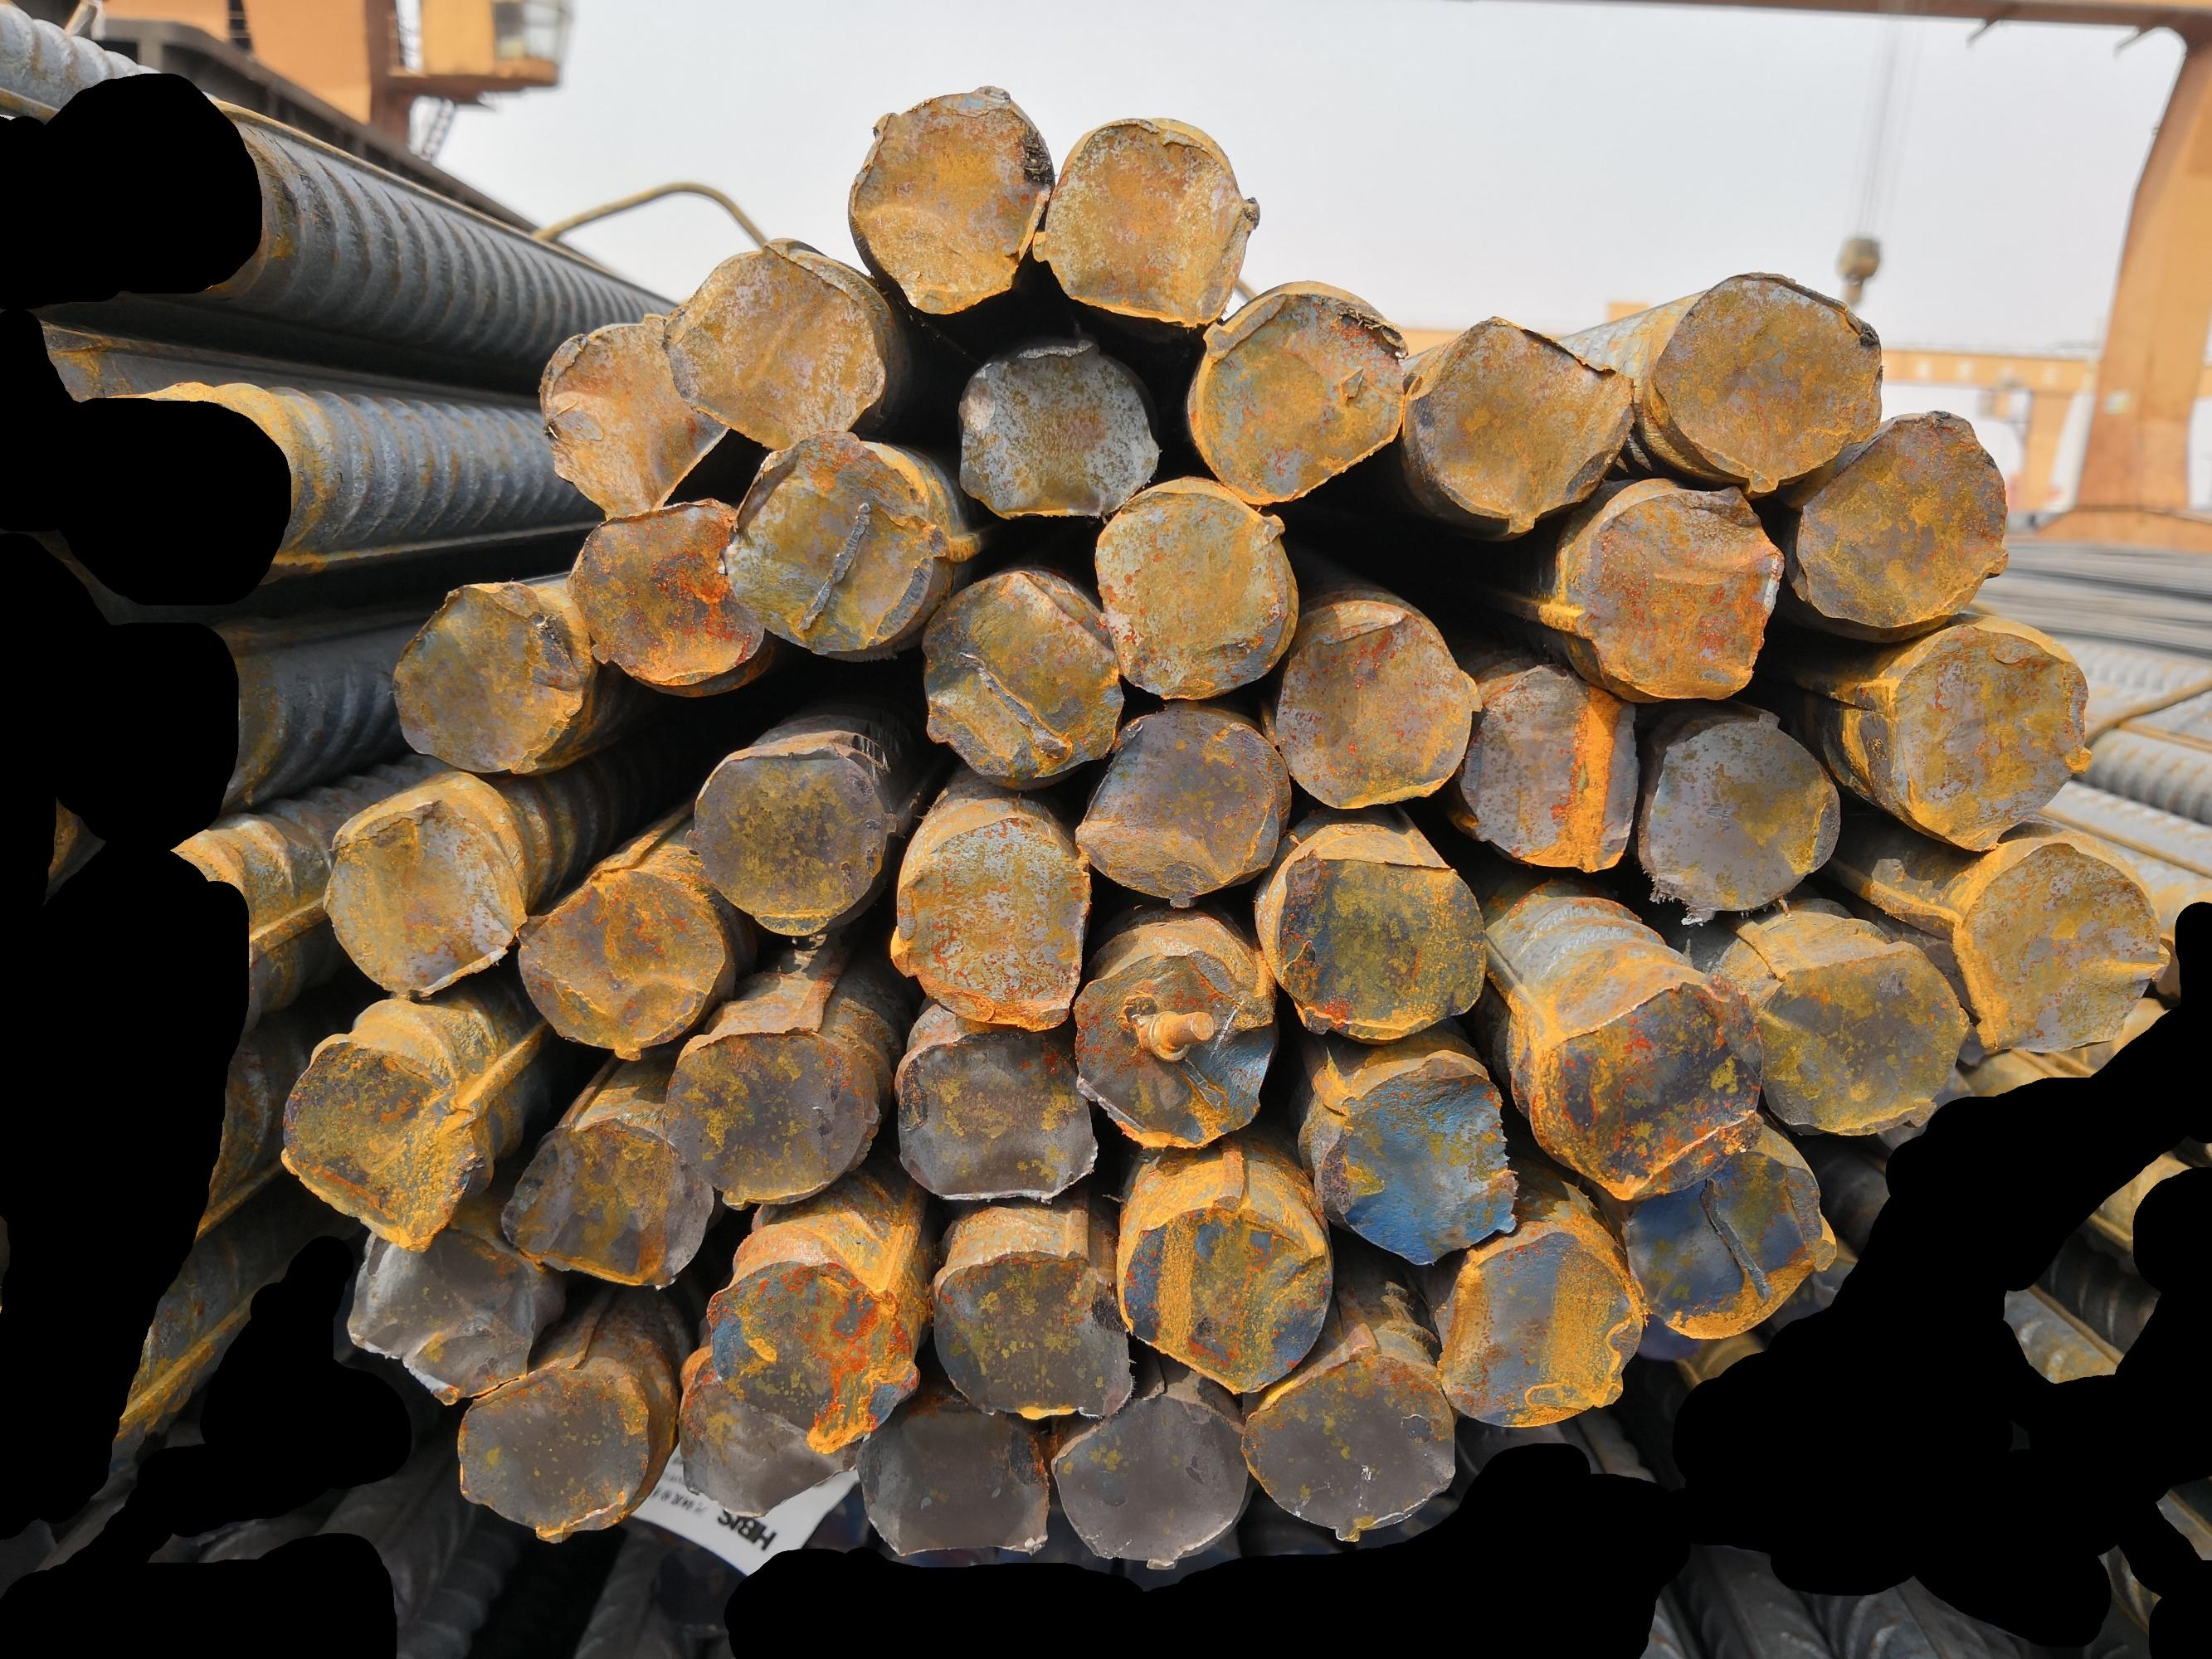bar: (1647, 265, 1888, 495), (1184, 279, 1414, 511), (722, 427, 950, 660), (1527, 979, 1766, 1201), (1879, 619, 2093, 856), (1792, 406, 2013, 634), (1028, 113, 1262, 329), (844, 82, 1058, 315), (657, 237, 887, 451), (499, 857, 757, 1047), (1417, 312, 1637, 535), (1951, 840, 2174, 1054), (1262, 599, 1487, 812), (917, 561, 1126, 788), (1089, 483, 1302, 702), (1070, 704, 1295, 911), (1572, 483, 1785, 701), (275, 1032, 481, 1256), (887, 812, 1095, 1032), (1309, 1053, 1520, 1265), (1116, 1192, 1335, 1396), (1618, 1141, 1839, 1342), (1747, 943, 1970, 1140), (1069, 945, 1279, 1152), (319, 796, 532, 1002), (1239, 1342, 1455, 1544), (702, 1256, 922, 1455), (659, 1016, 882, 1211), (1272, 847, 1490, 1046), (1639, 702, 1842, 913), (1435, 1227, 1644, 1431), (535, 307, 734, 521), (683, 741, 898, 938), (563, 495, 772, 687), (387, 579, 589, 775), (953, 335, 1163, 521), (1457, 660, 1640, 873), (343, 1206, 537, 1406), (1048, 1387, 1255, 1572), (497, 1114, 715, 1288), (455, 1356, 655, 1544), (929, 1246, 1135, 1422), (891, 1032, 1100, 1202), (675, 1351, 865, 1518), (852, 1405, 1053, 1558)
